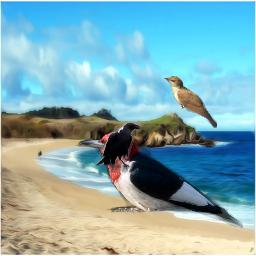Crow: (94, 121, 141, 175)
Cuckoo: (164, 76, 217, 128)
Woodpecker: (75, 129, 243, 230)
